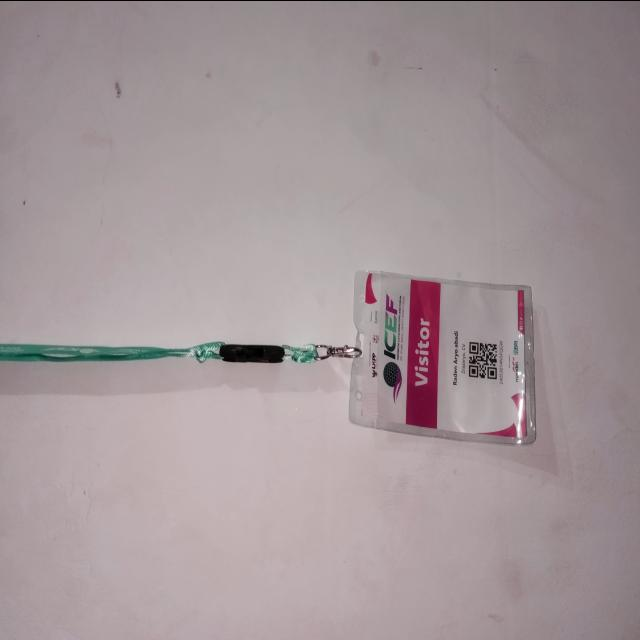ID_card: (348, 269, 536, 446)
